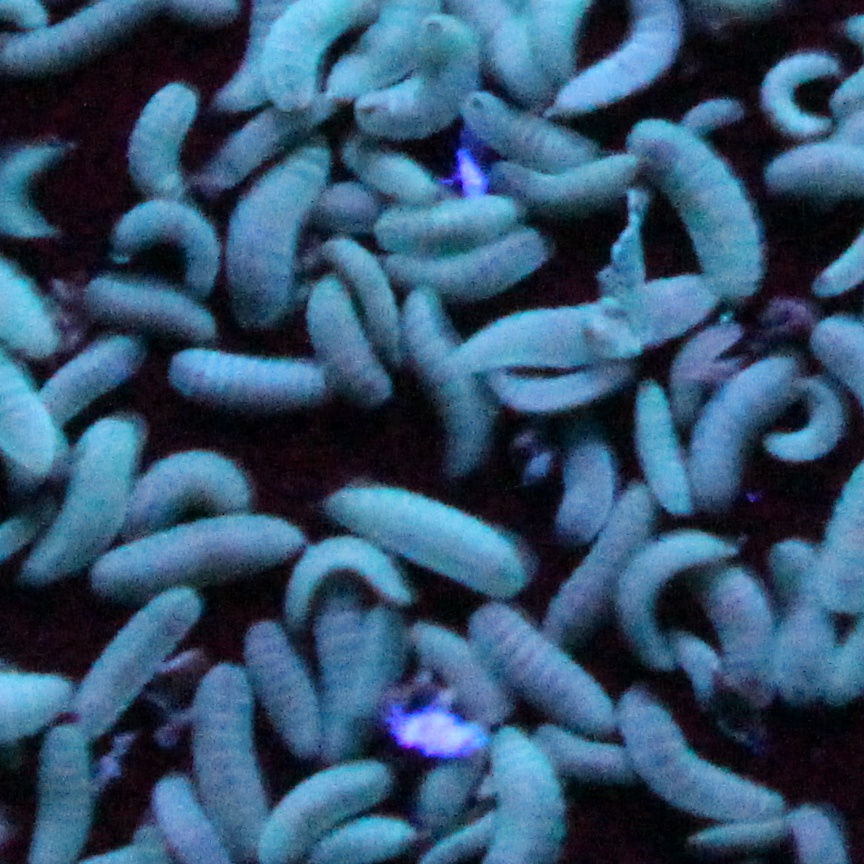larve: (633, 112, 766, 307), (453, 274, 726, 368), (320, 484, 526, 602), (611, 692, 784, 821), (226, 138, 333, 338), (24, 418, 147, 582), (469, 602, 614, 740), (76, 584, 201, 740), (397, 283, 496, 476), (89, 513, 310, 598), (611, 525, 738, 668), (538, 491, 651, 648), (670, 548, 787, 698), (193, 662, 274, 863), (684, 363, 797, 502), (356, 20, 478, 144), (768, 535, 840, 711), (406, 617, 518, 730), (168, 345, 338, 414), (381, 225, 551, 294), (123, 451, 253, 541), (320, 236, 410, 366), (306, 274, 397, 402), (284, 535, 412, 624), (207, 100, 328, 192), (242, 621, 320, 763), (370, 187, 532, 255), (464, 96, 607, 173), (311, 586, 370, 768), (108, 198, 222, 291), (478, 366, 657, 420), (31, 337, 142, 424), (129, 75, 199, 208), (634, 380, 698, 521), (550, 430, 617, 553), (764, 367, 844, 463), (82, 278, 219, 333), (527, 726, 659, 782), (350, 605, 406, 722), (762, 52, 837, 134), (347, 138, 443, 201), (691, 818, 794, 858), (682, 100, 744, 131)
